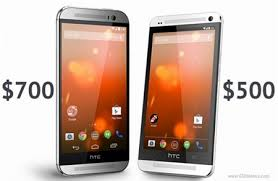htc: (136, 6, 224, 177), (54, 3, 131, 176)
